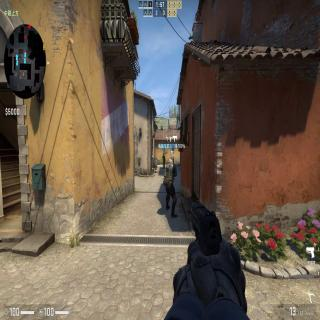CT-Body: (163, 157, 180, 216)
CT-Head: (170, 157, 174, 163)
T-Body: (162, 153, 165, 169)
